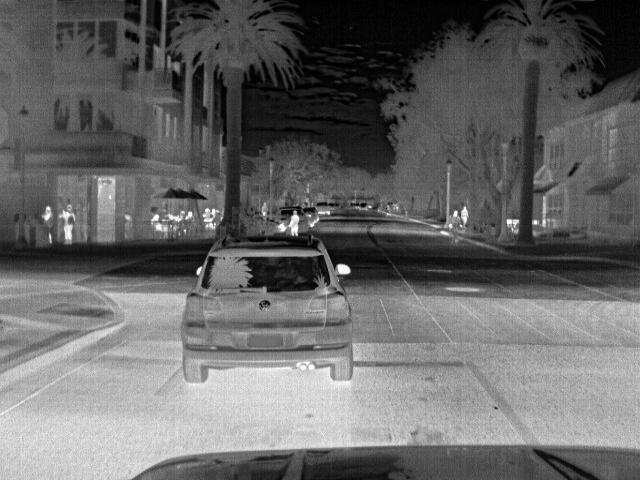car: (179, 238, 358, 383), (275, 207, 294, 223), (302, 207, 317, 227), (313, 202, 333, 216)
person: (42, 204, 59, 248), (60, 204, 75, 250), (288, 207, 304, 235), (448, 209, 462, 236), (122, 211, 135, 240), (459, 204, 472, 232), (149, 211, 162, 223)
